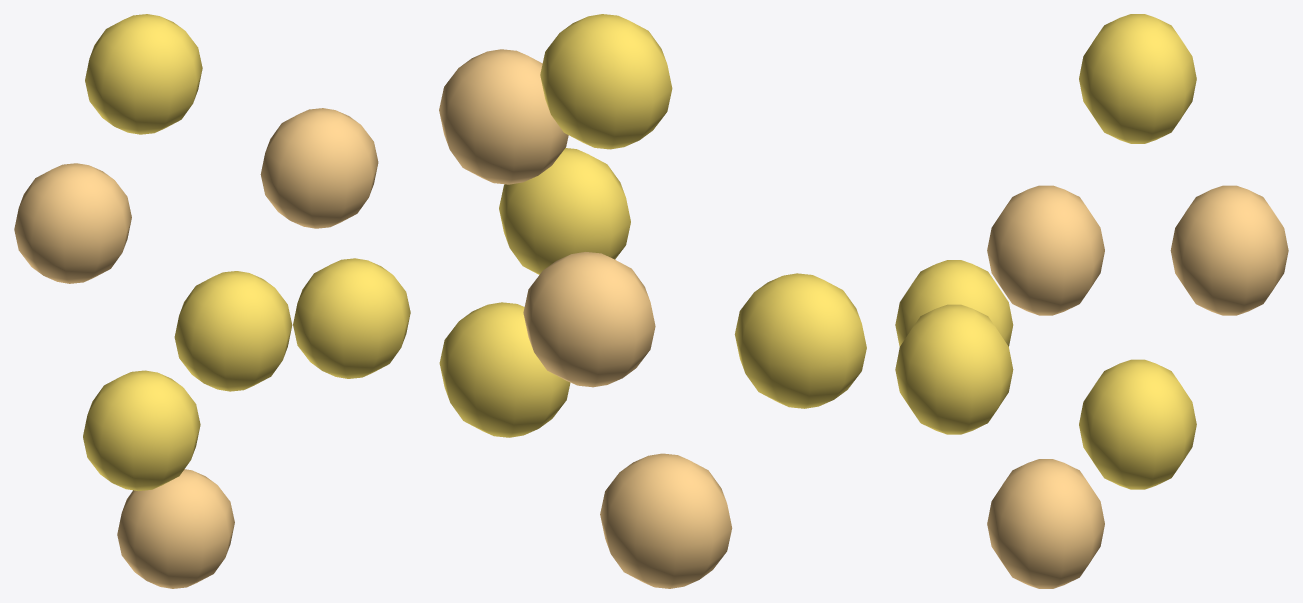
File: BalconyBirdFeederSeed_Premium.fbx
3 views of the same model, side by side, from view 1: azimuth 30°, elevation 25°; view 2: azimuth 150°, elevation 25°; view 3: azimuth 270°, elevation 25° (orthographic). The views are drawn at different scales.
Parts seen in each view (by area): view 1: BalconyBirdFeederSeed; view 2: BalconyBirdFeederSeed; view 3: BalconyBirdFeederSeed.
Part boxes in pixels (x1=…): BalconyBirdFeederSeed: x1=14, y1=14, x2=410, y2=588; BalconyBirdFeederSeed: x1=439, y1=14, x2=866, y2=588; BalconyBirdFeederSeed: x1=895, y1=14, x2=1288, y2=588.
Bounding box in the file's own units: 0.1214 × 0.1916 × 0.12.
